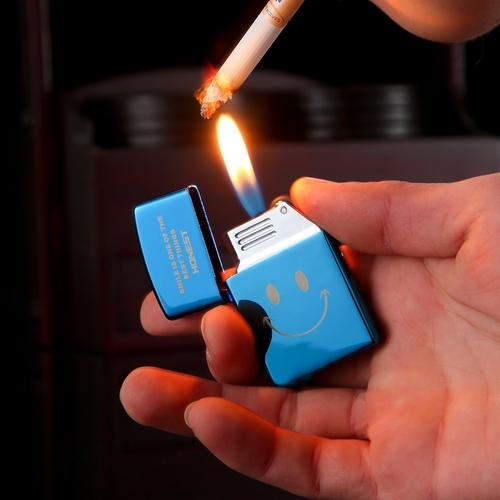fire: (213, 107, 260, 209), (194, 63, 237, 110)
